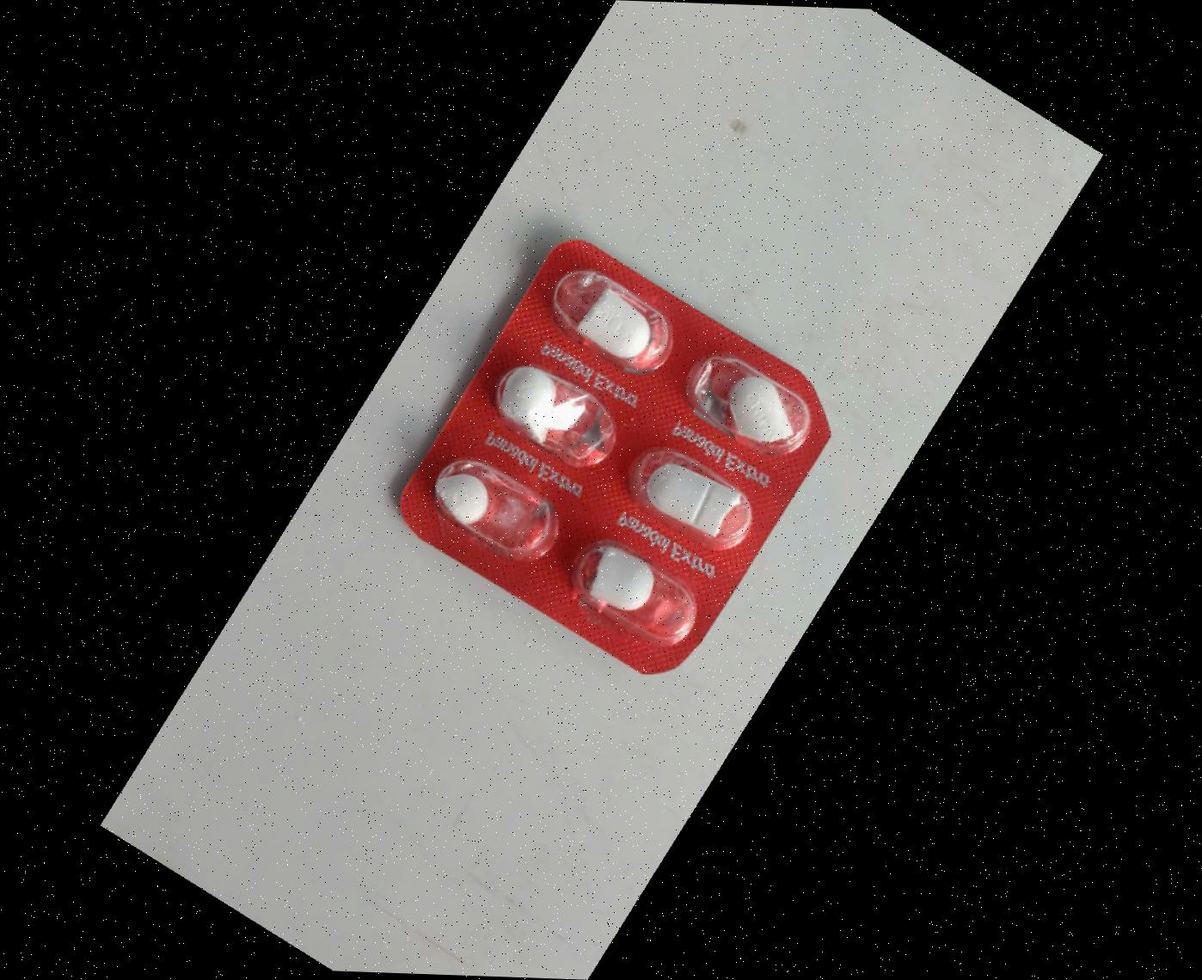Partial: (542, 518, 724, 686), (653, 329, 835, 497), (465, 342, 646, 510), (600, 420, 781, 588), (524, 241, 706, 408), (405, 426, 587, 593)
